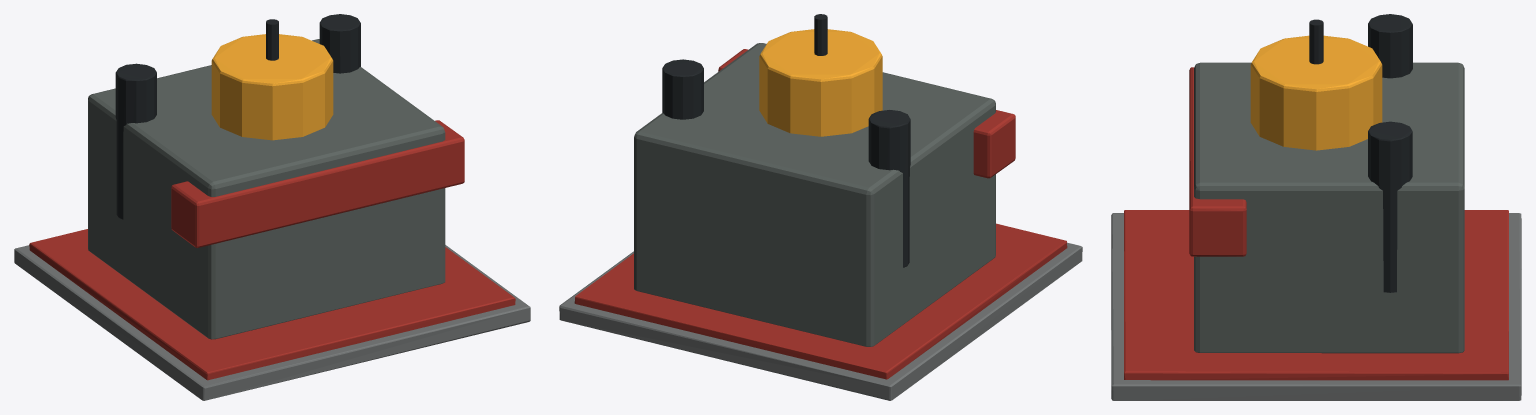
File: SM_Soviet_SU_ConYard_LOD1.fbx
3 views of the same model, side by side, from view 1: azimuth 30°, elevation 25°; view 2: azimuth 150°, elevation 25°; view 3: azimuth 270°, elevation 25° (orthographic). The views are drawn at different scales.
Visible parts, largest first — view 1: LOD01_SM_Soviet_SU_ConYard; view 2: LOD01_SM_Soviet_SU_ConYard; view 3: LOD01_SM_Soviet_SU_ConYard.
Part boxes in pixels (box(x1,y1,x2,y2)): LOD01_SM_Soviet_SU_ConYard: box(14, 14, 530, 400); LOD01_SM_Soviet_SU_ConYard: box(559, 14, 1082, 400); LOD01_SM_Soviet_SU_ConYard: box(1111, 14, 1521, 400).
Size of the model in its own units: 799 by 800 by 630.
